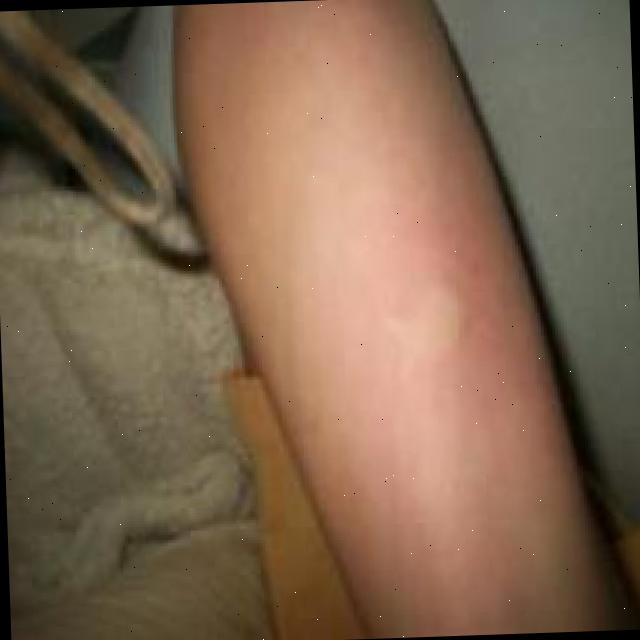sinek: (367, 254, 490, 390)
